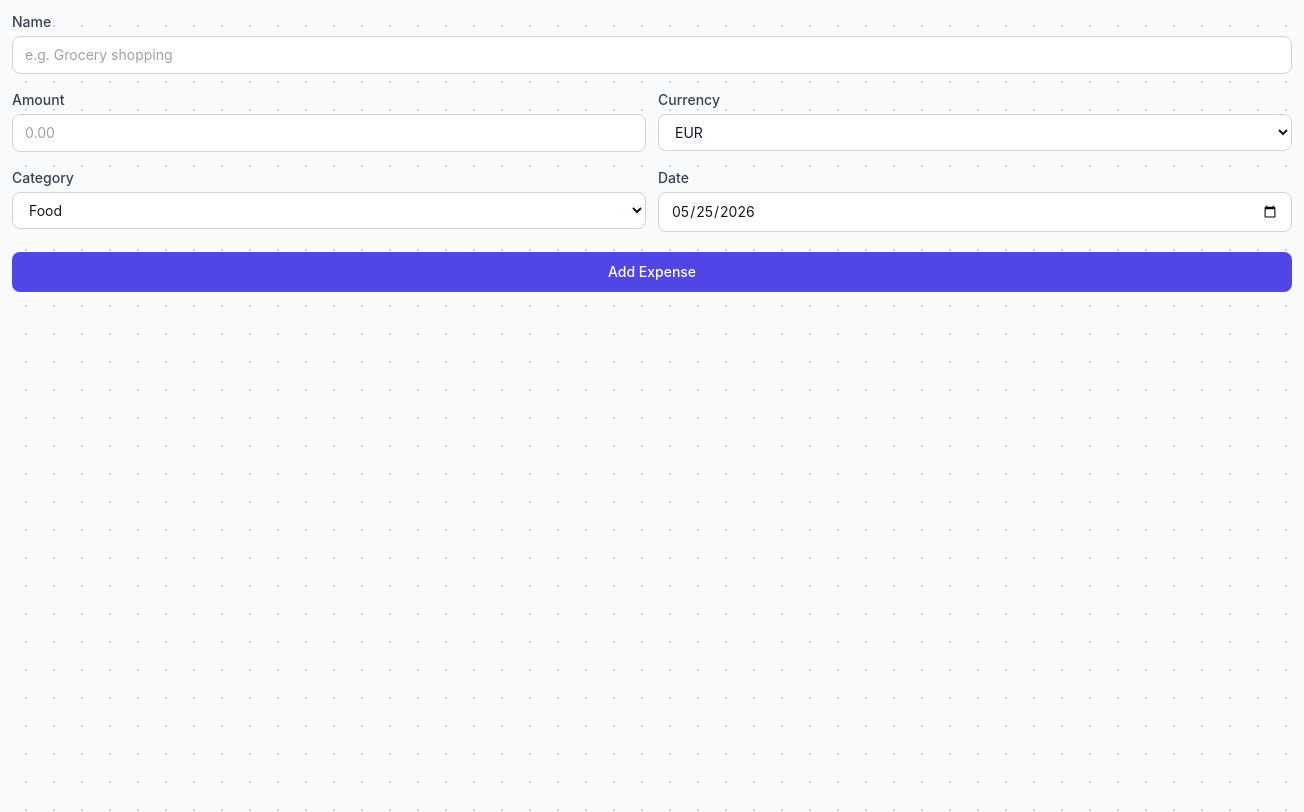
Test: ExpenseForm › shows validation errors when submitting empty form
Click the button with test id "expense-submit-button" at {"x": 652, "y": 272}, box [12,252,1292,292]
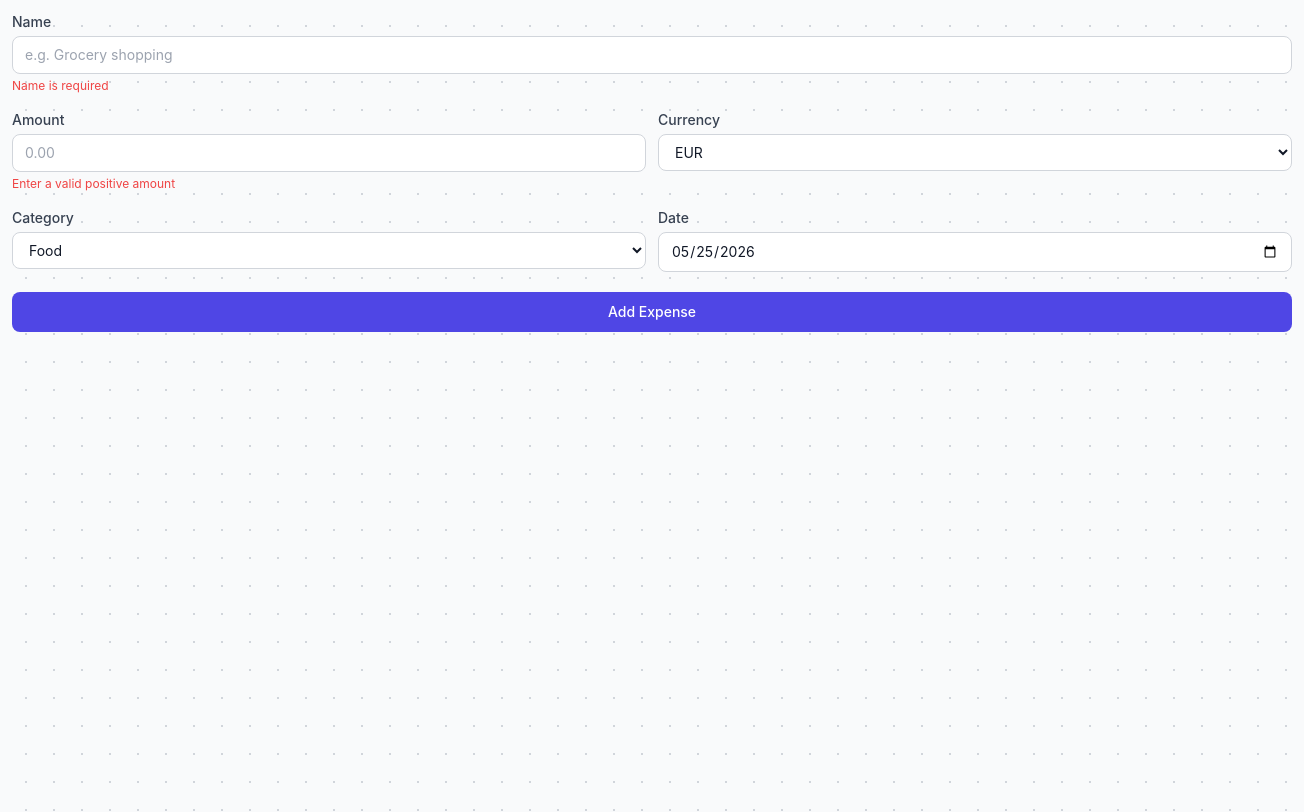
Expected: the text "Name is required" is shown, [12,78,109,93]
Expected: the text "Enter a valid positive amount" is shown, [12,176,175,191]
